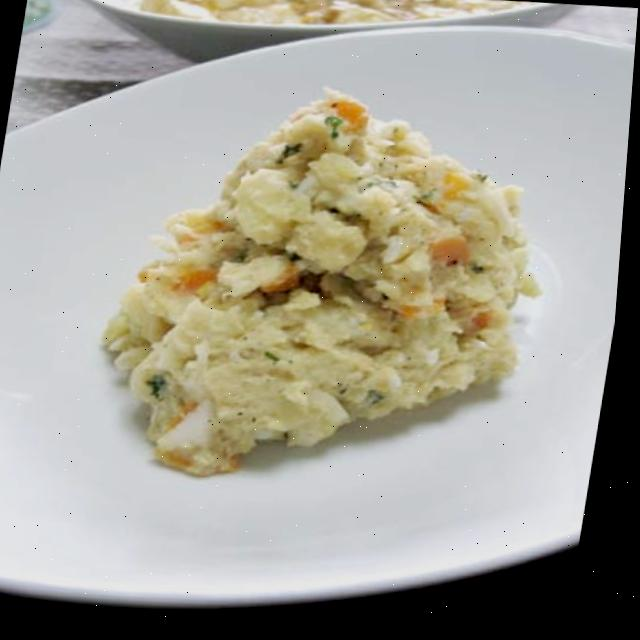蔬菜料理: (80, 51, 577, 521)
